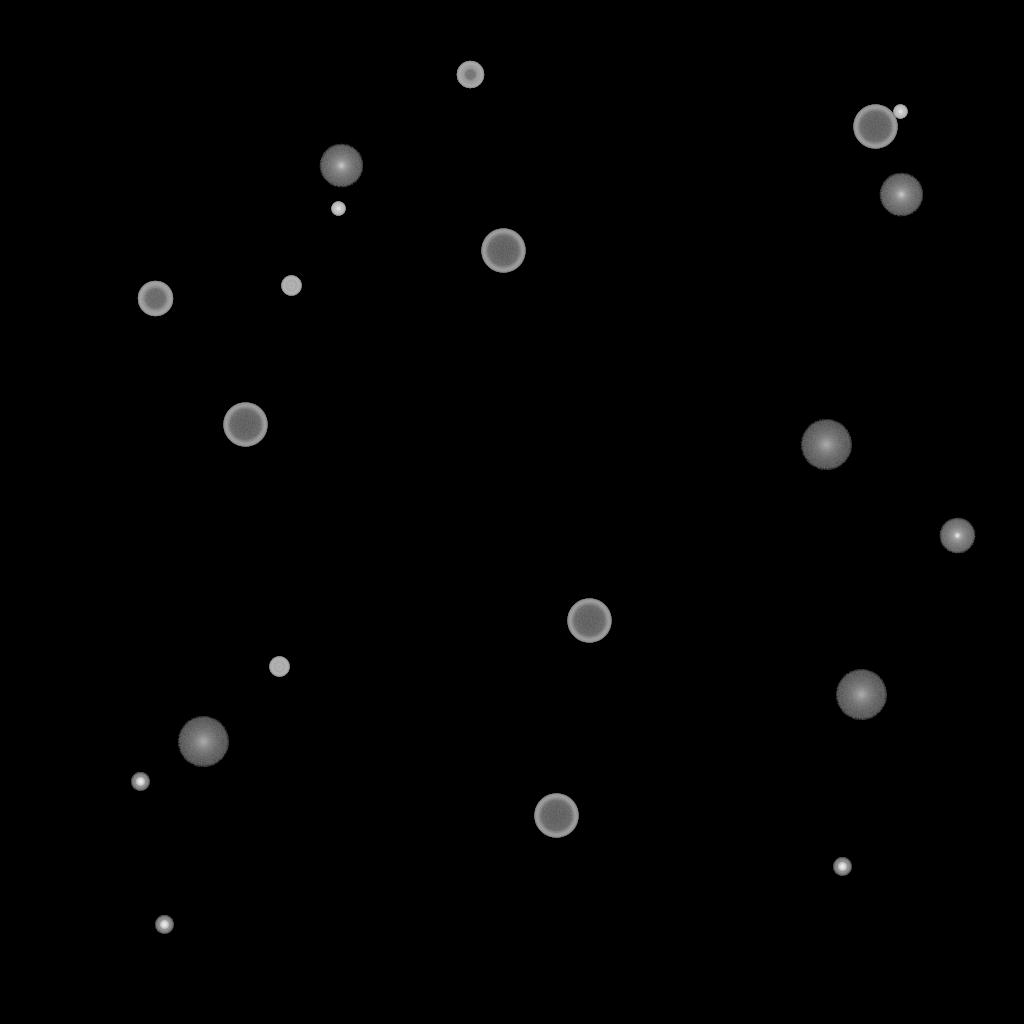depth:-20: (131, 773, 149, 791), (833, 858, 851, 876), (155, 916, 173, 934)
depth:-30: (893, 105, 907, 119), (331, 202, 345, 216)
depth:-40: (269, 657, 289, 677), (281, 276, 301, 296)
depth:-50: (456, 61, 484, 89)
depth:-60: (137, 281, 173, 317)
depth:-70: (534, 794, 578, 838), (481, 229, 525, 273), (567, 599, 611, 643), (223, 403, 267, 447), (853, 105, 897, 149)
depth:0: (939, 518, 975, 554)
depth:10: (319, 144, 363, 188), (879, 173, 923, 217)
depth:20: (835, 670, 887, 720), (177, 717, 229, 767), (800, 420, 852, 470)
